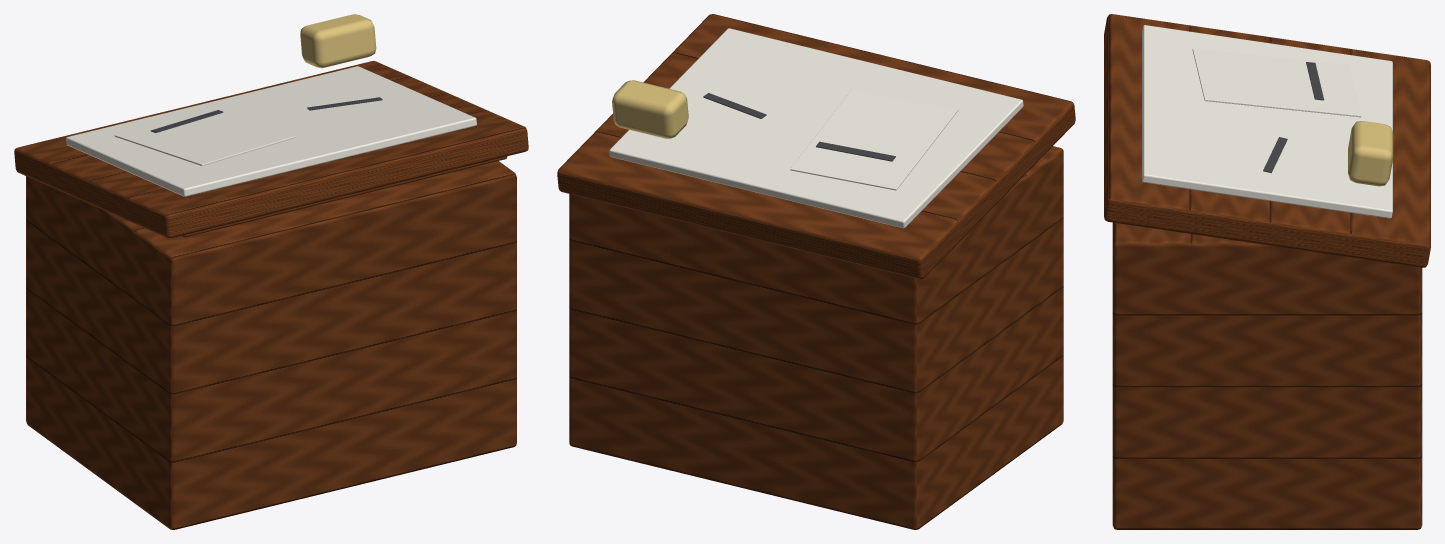
File: printing-press-and-newspaper-office-light-box-886823f5__37762.glb
3 views of the same model, side by side, from view 1: azimuth 30°, elevation 25°; view 2: azimuth 150°, elevation 25°; view 3: azimuth 270°, elevation 25° (orthographic). The views are drawn at different scales.
Parts seen in each view (by area): view 1: light-box; view 2: light-box; view 3: light-box.
Part boxes in pixels (<box>): light-box: <box>14,14,528,529</box>; light-box: <box>557,14,1075,529</box>; light-box: <box>1104,14,1430,529</box>.
Bounding box in the file's own units: 0.94 × 0.8684 × 0.6974.
5 materials, 1 textured.
